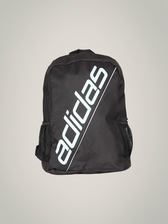bag: (32, 46, 139, 178)
